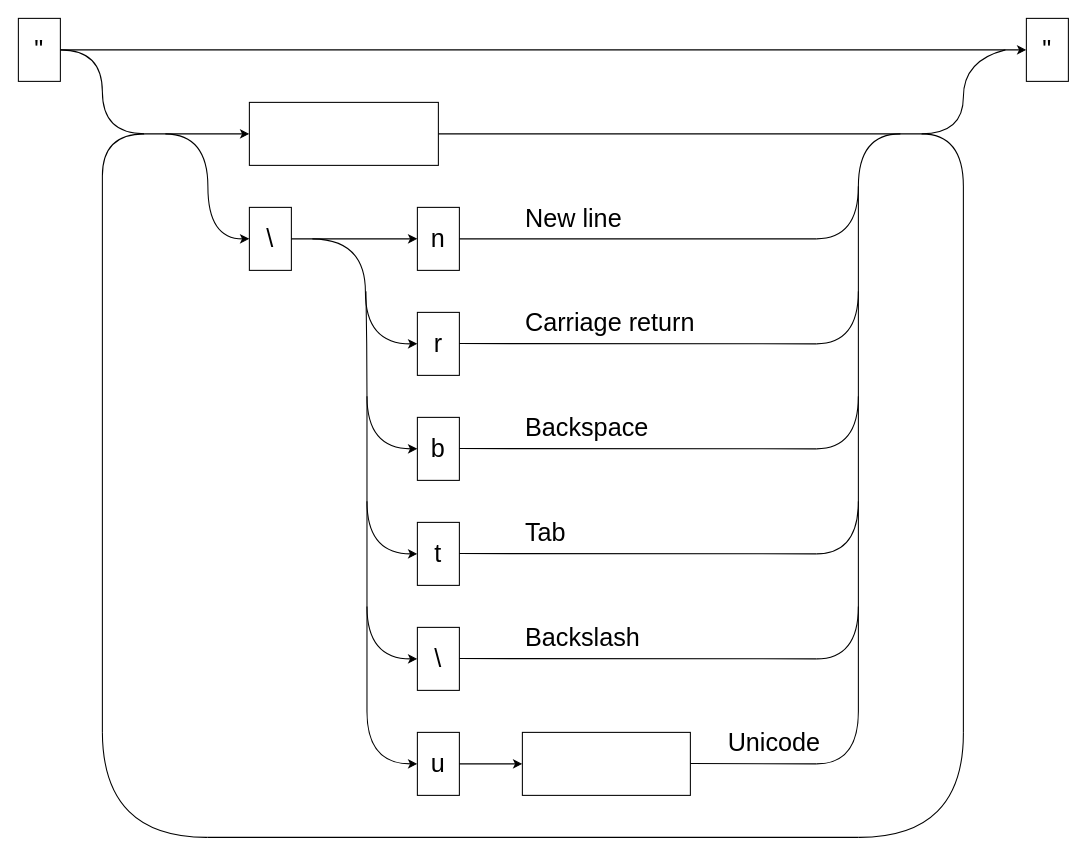
Image size: 1087x857. Some labels were removed from this diagram. The centre of each missing label's shape, as x and y in pixels:
"4 Hex Digits" belongs at (x=605, y=763).
"Any Character" belongs at (x=343, y=133).
